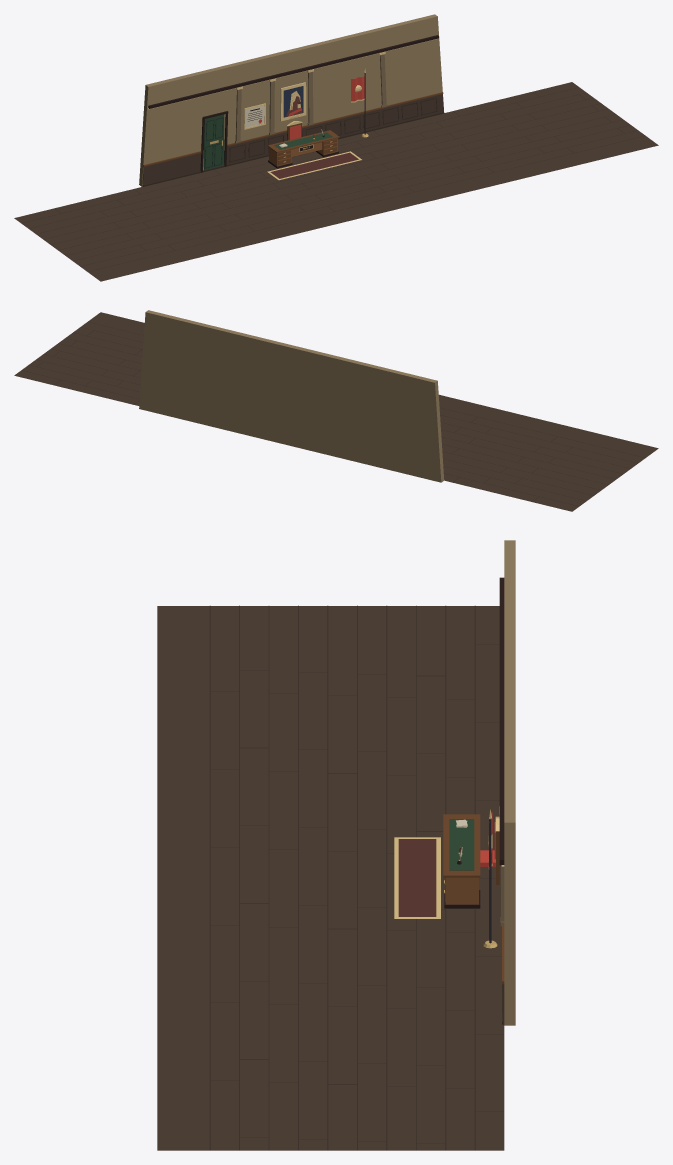
Rendered from mayors-office.glb.
The picture shows the model from 3 angles, top to bottom: view 1: azimuth 30°, elevation 25°; view 2: azimuth 150°, elevation 25°; view 3: azimuth 270°, elevation 25°; orthographic projection. The views are drawn at different scales.
Visible parts, largest first — view 1: mayors-office, floor, door; view 2: mayors-office, floor; view 3: mayors-office, floor.
Boxes of the visible parts, bbox=[...] form: mayors-office: bbox=[22, 14, 658, 281]; floor: bbox=[14, 82, 612, 247]; door: bbox=[200, 111, 228, 172]; mayors-office: bbox=[21, 310, 658, 506]; floor: bbox=[14, 346, 612, 511]; mayors-office: bbox=[157, 540, 515, 1150]; floor: bbox=[340, 606, 504, 1150].
Bounding box in the file's own units: 28 × 4.71 × 7.79.
